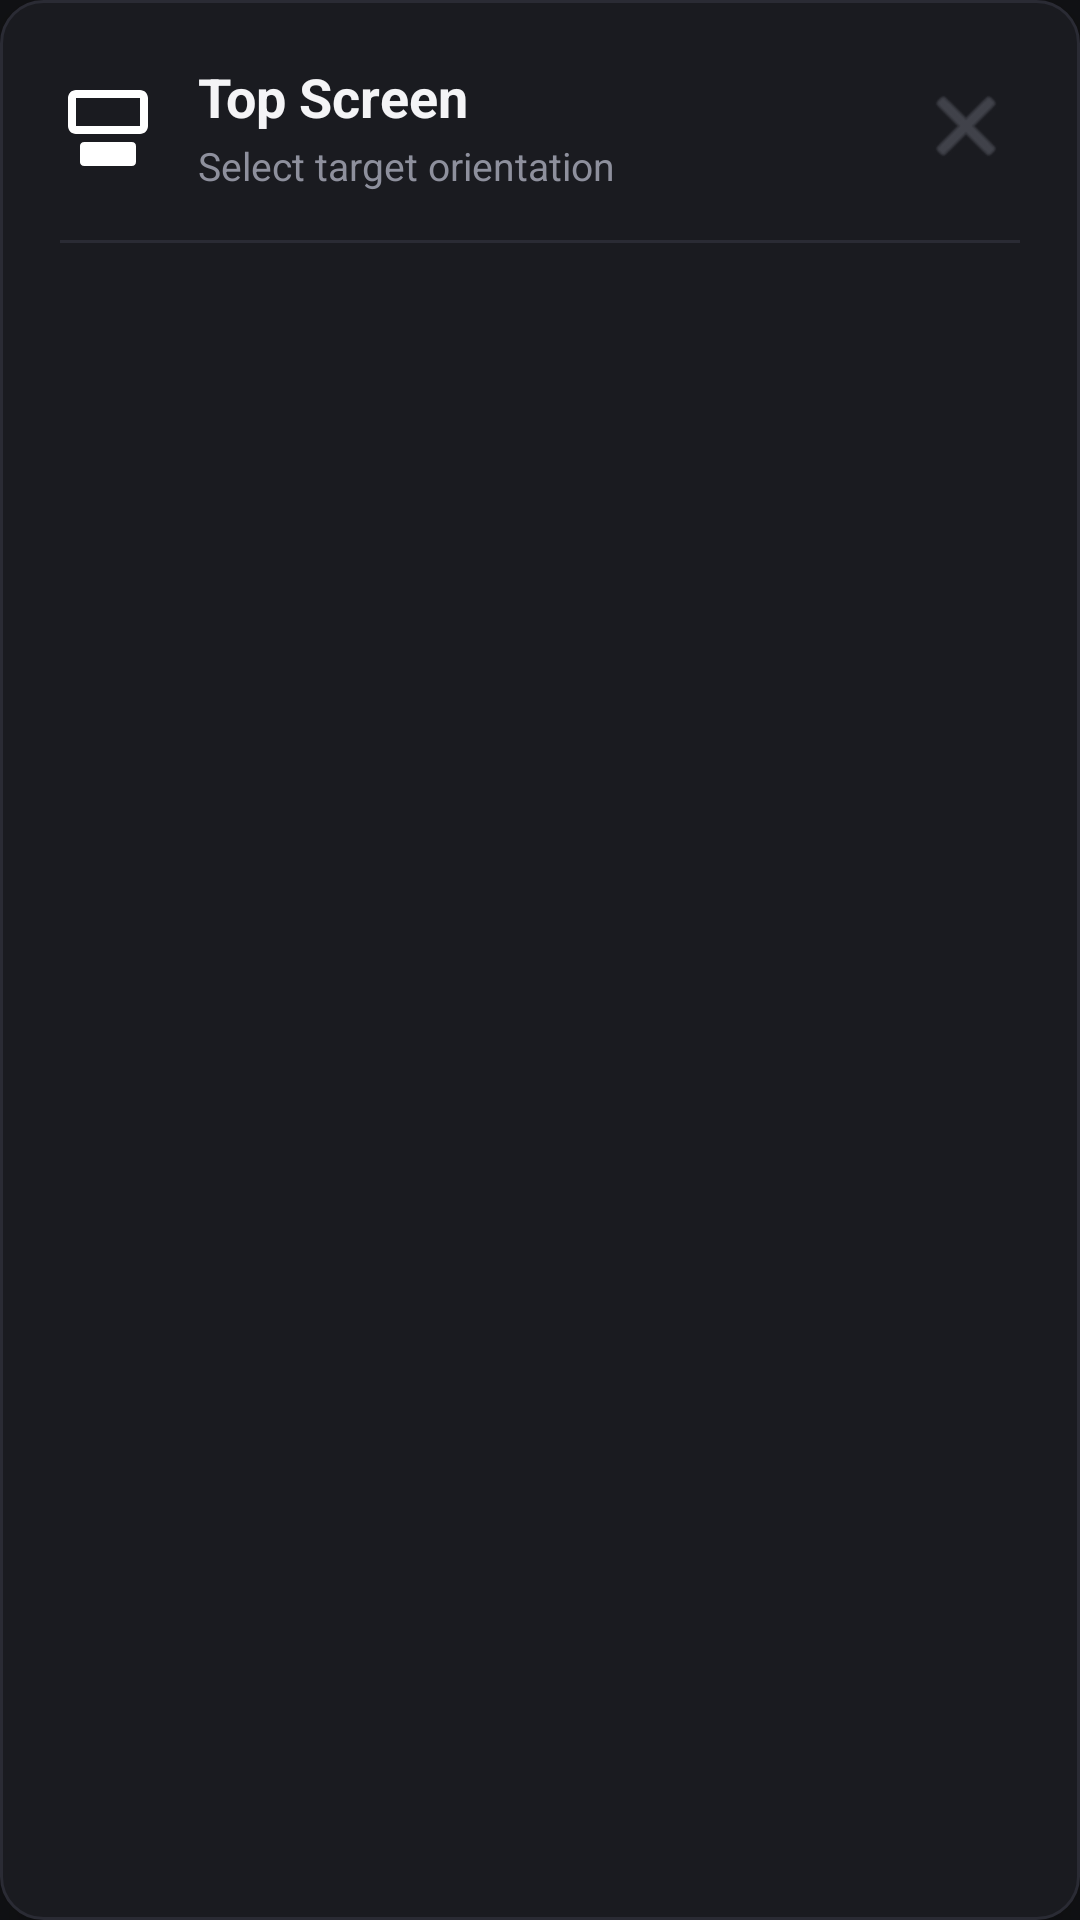

Icon click points for this 1080w x 1920h phone screenshot, format [x,y]:
Close: [966,126]
